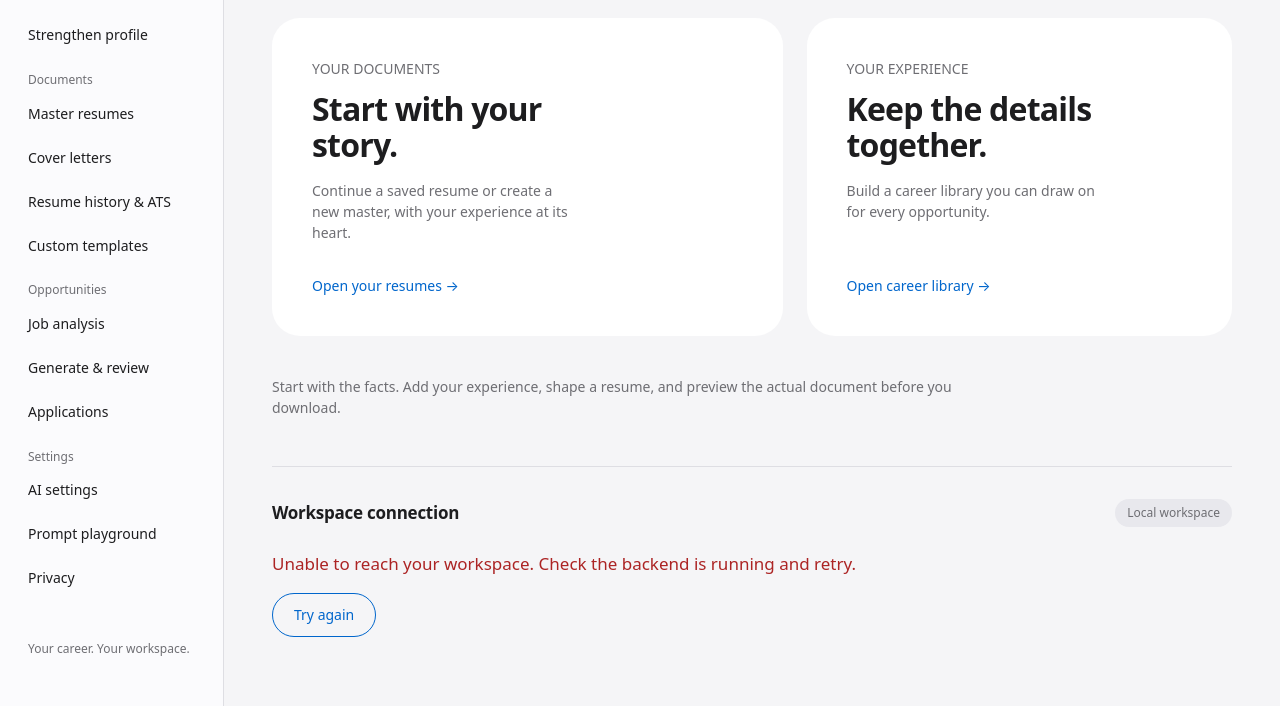
Test: workspace connection › navigates to privacy details
(page scrolled)
Click the link "Privacy": x=51, y=578 [28,568,75,588]
(page scrolled)
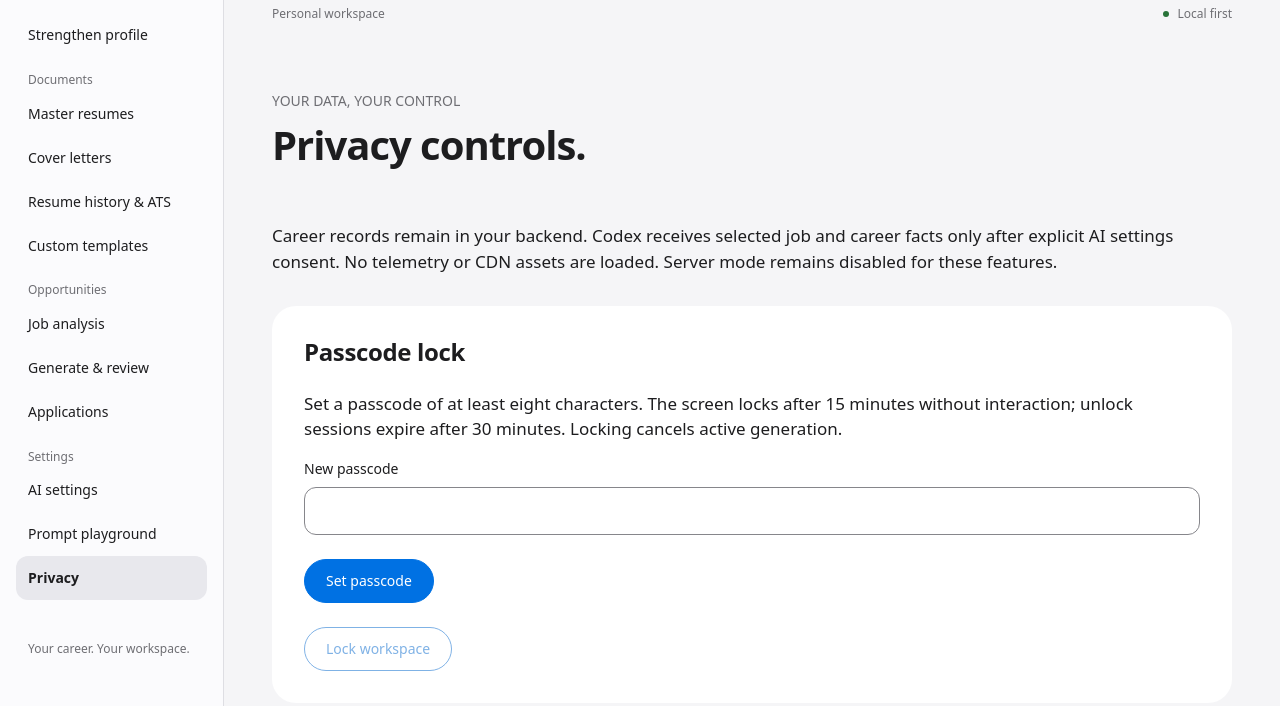
Expected: the heading "Privacy controls." is shown, [272,123,586,167]
